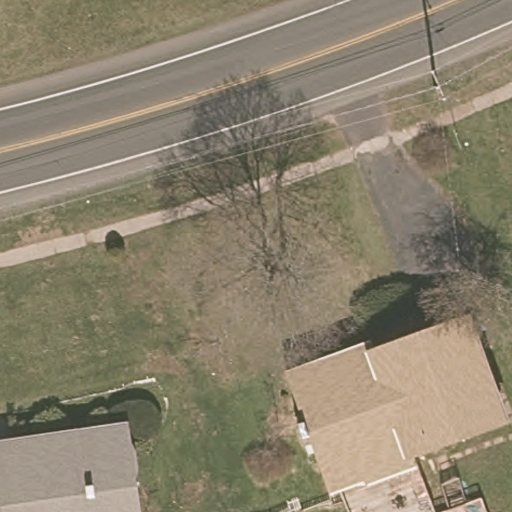DT: (429, 69, 448, 103)
